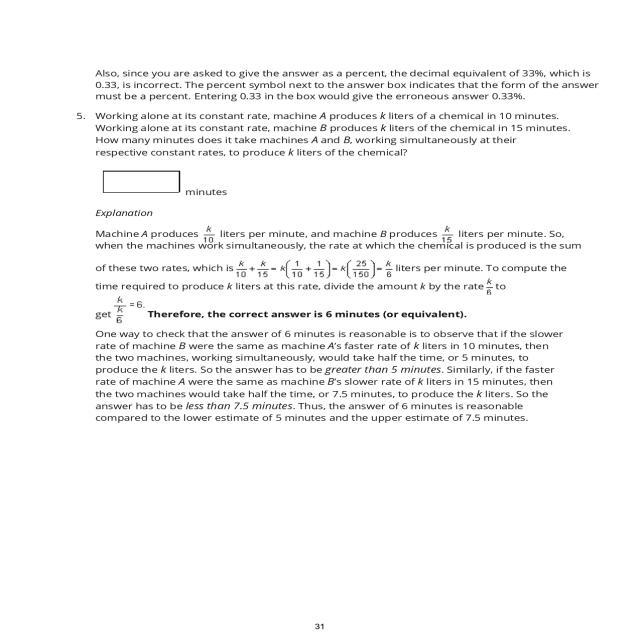Question_Paper_Area: (70, 51, 596, 427)
